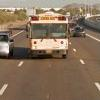Bus: (26, 12, 73, 63)
